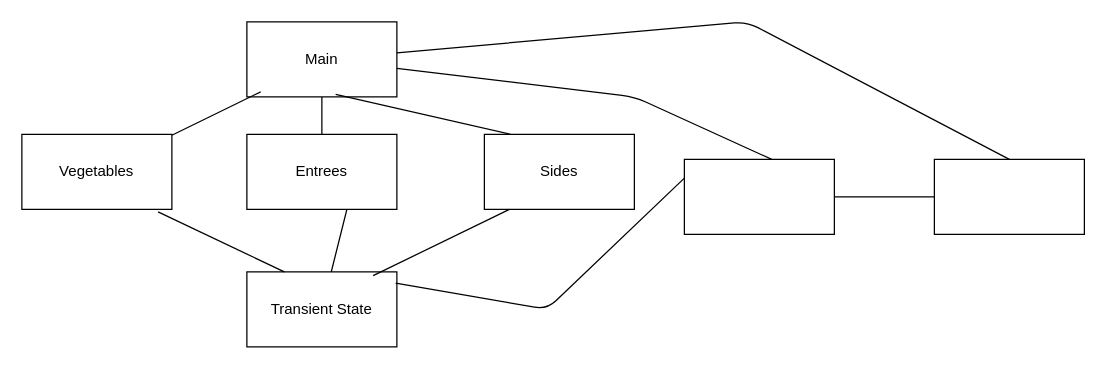
This 1106x369 diagram has some shape labels left out. The shapes that lost their labels are listed below. From the top down, each one's centre as x and y in pixels, then its label:
At (758,196): "Button".
At (1008,196): "Purchased Meals".
